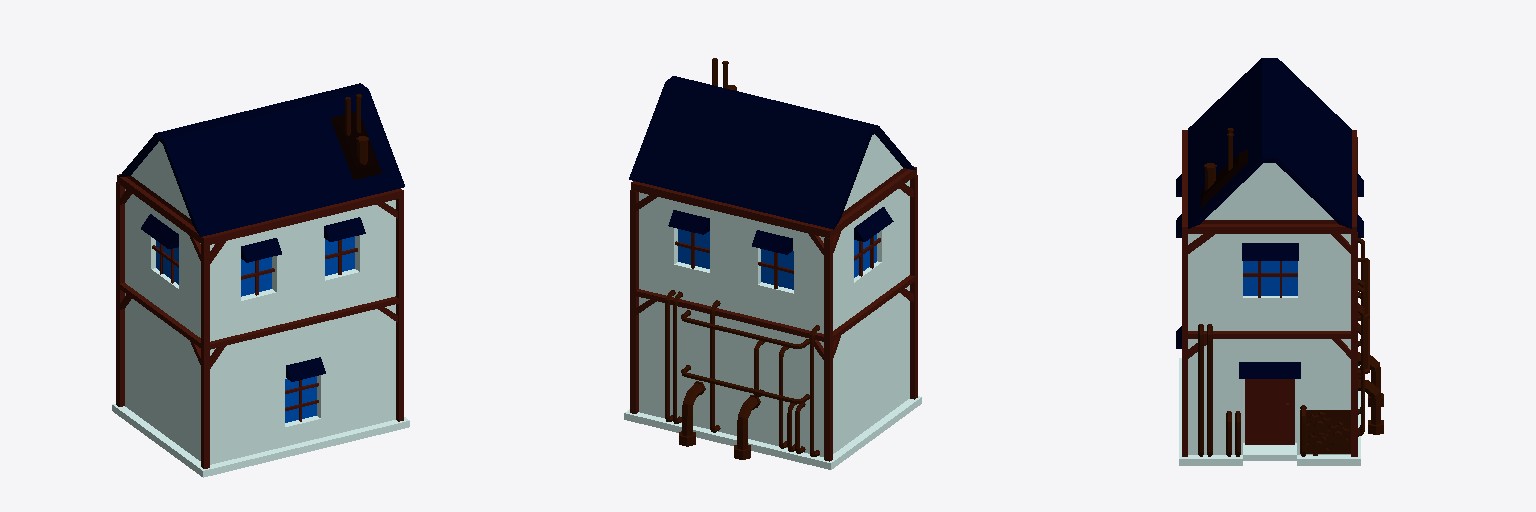
File: house_with_pipes_2story.obj
The picture shows the model from 3 angles: view 1: azimuth 30°, elevation 25°; view 2: azimuth 150°, elevation 25°; view 3: azimuth 270°, elevation 25°; orthographic projection.
Visible parts, largest first — view 1: house, gear; view 2: house, gear; view 3: house, gear.
Boxes of the visible parts, x1,y1,x2,y2 form: house: [112, 83, 409, 477]; gear: [345, 94, 368, 164]; house: [624, 76, 921, 469]; gear: [665, 58, 819, 459]; house: [1176, 58, 1363, 465]; gear: [1198, 128, 1383, 456].
Bounding box in the file's own units: 8.97 × 12.87 × 7.62.